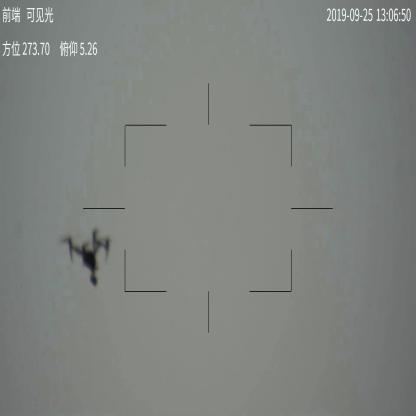uav: (62, 228, 112, 286)
